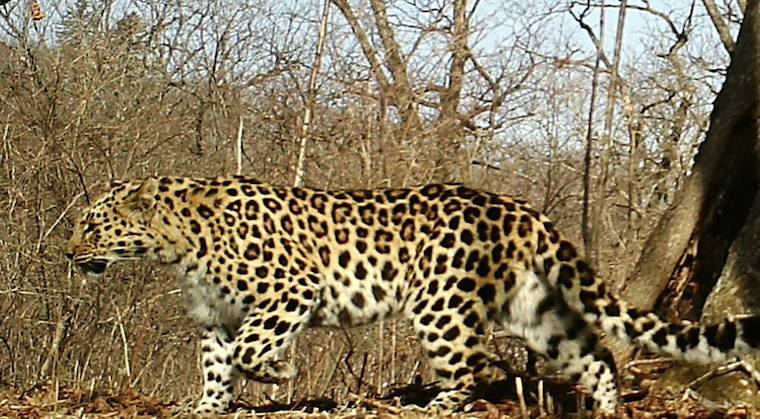amur_leopard: (60, 175, 696, 392)
